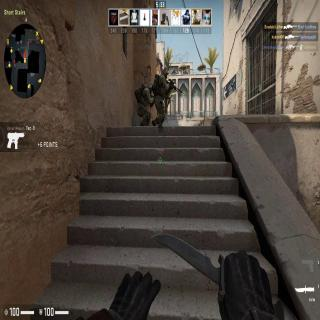CT-Body: (150, 60, 173, 124), (136, 78, 154, 125)
CT-Head: (161, 66, 169, 77), (147, 82, 153, 93)
